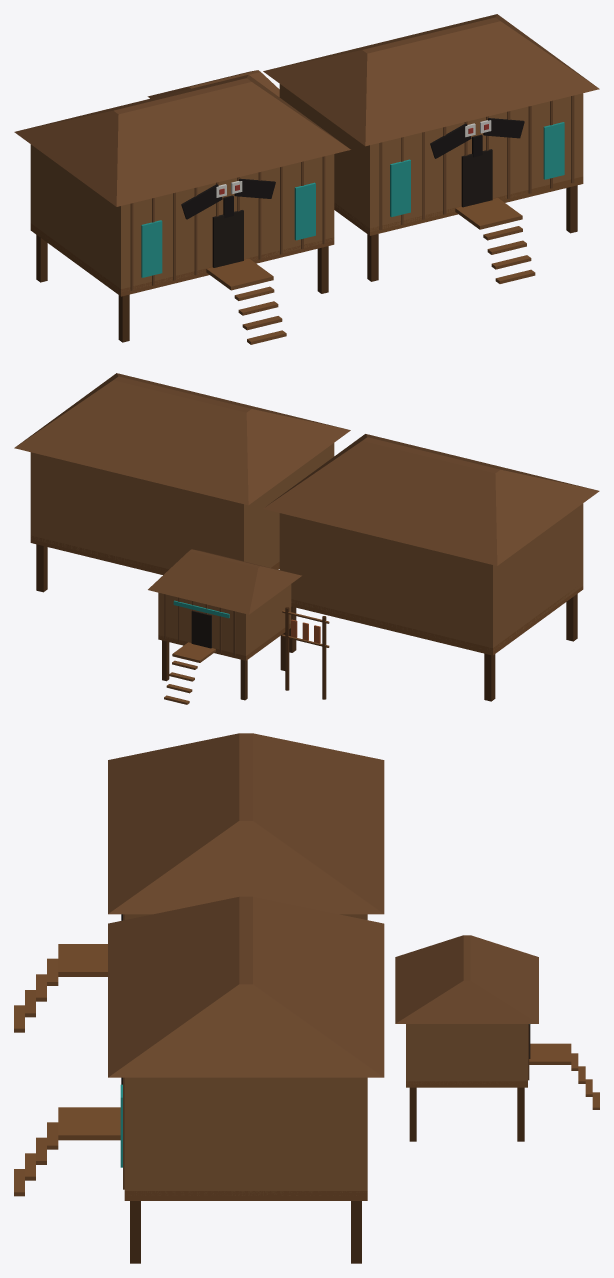
Rendered from bird_row.glb.
3 renders of one model, top to bottom at view 1: azimuth 30°, elevation 25°; view 2: azimuth 150°, elevation 25°; view 3: azimuth 270°, elevation 25°, orthographic. The views are drawn at different scales.
Parts seen in each view (by area): view 1: bird_row; view 2: bird_row; view 3: bird_row.
Part boxes in pixels (x1,y1,x2,y2): bird_row: [14, 14, 599, 344]; bird_row: [14, 373, 599, 704]; bird_row: [14, 733, 599, 1263].
Bounding box in the file's own units: 6.8 × 2.55 × 5.3.
